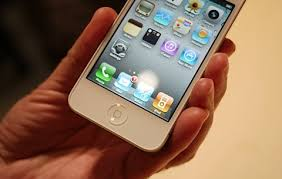iphone: (68, 1, 244, 153)
iphone4: (67, 1, 243, 152)
